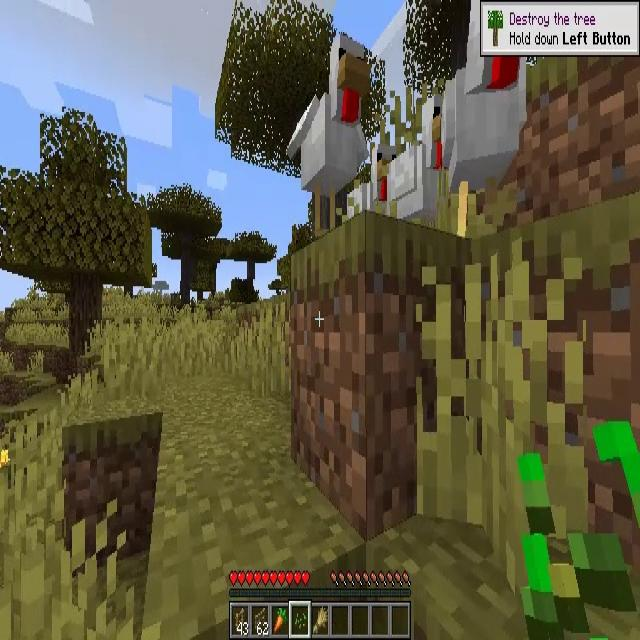duck: (437, 12, 527, 235), (292, 32, 368, 234), (380, 96, 450, 232)
